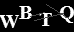B: (18, 5, 32, 20)
Q: (58, 5, 74, 23)
T: (37, 12, 52, 26)
W: (1, 14, 19, 28)
